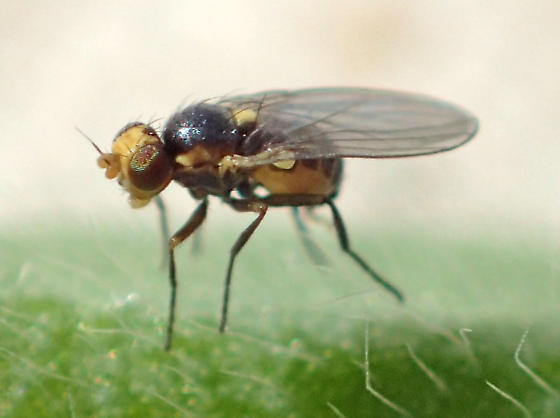Chloropidae: (77, 82, 477, 354)
